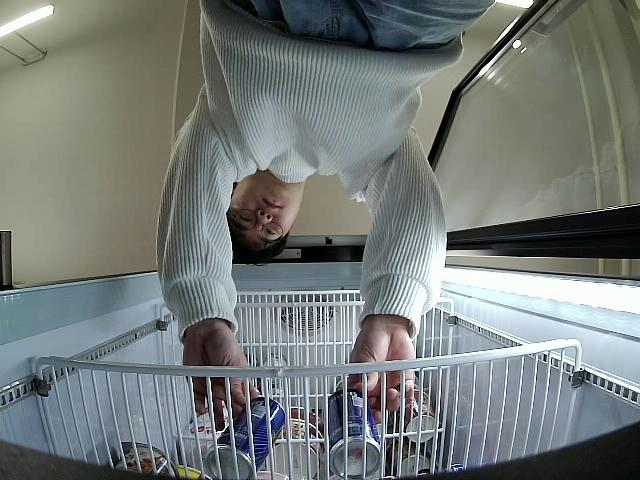00_hand: (182, 331, 261, 428), (344, 321, 416, 424)
16_hot6: (205, 395, 285, 480), (326, 391, 381, 479)
